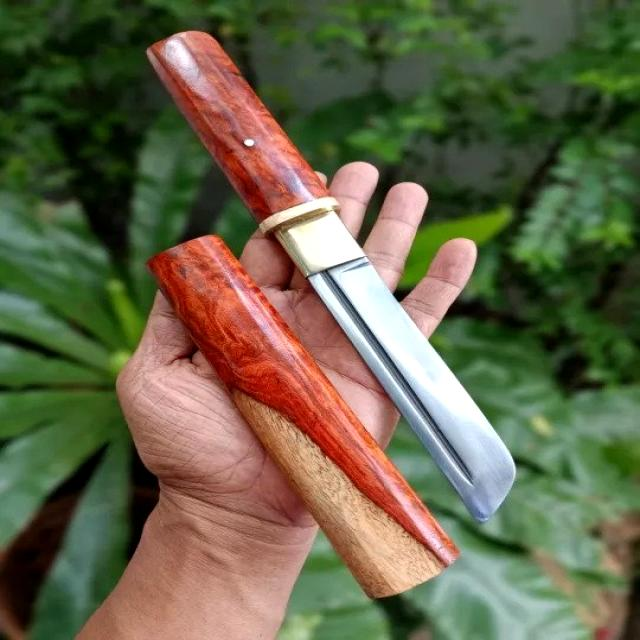short sword: (87, 22, 535, 640)
